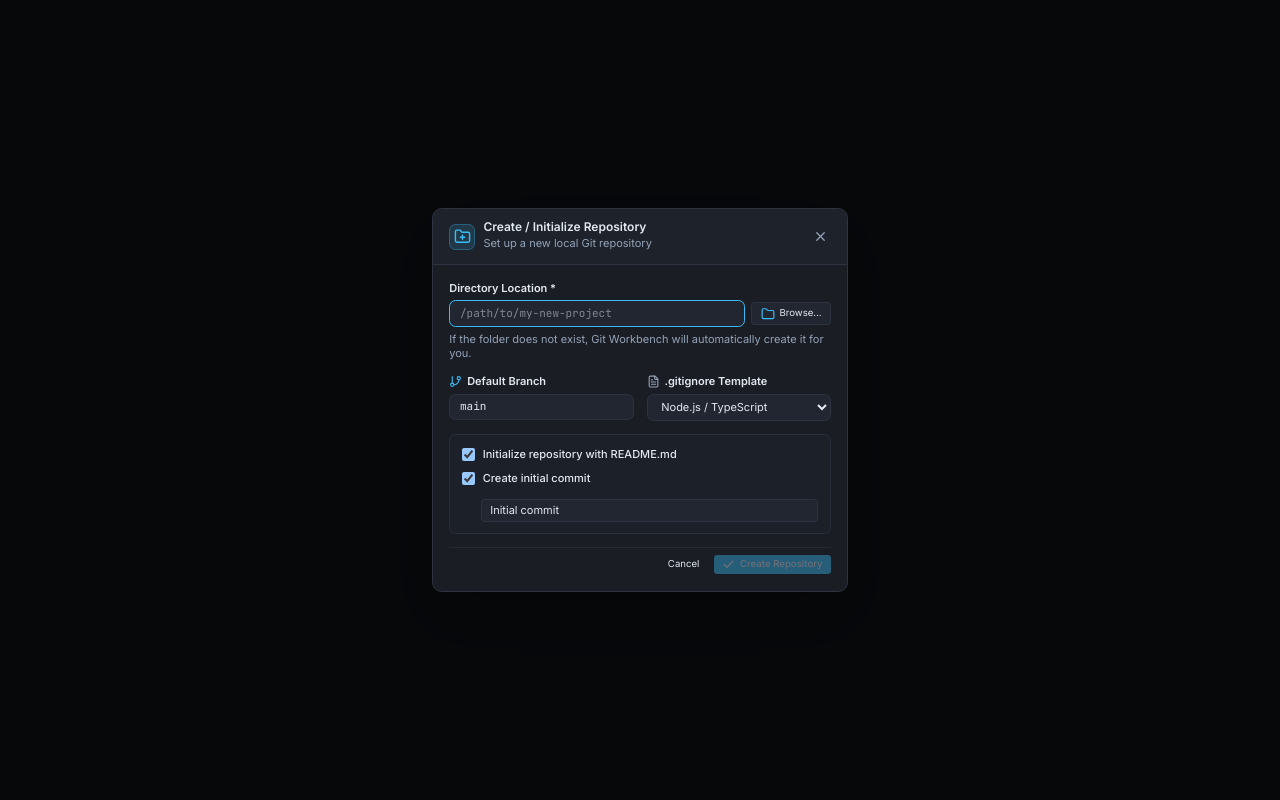
Test: CreateRepoModal › reports repository initialization failure {"__error":"Cannot write directory"}
The width and height of the screenshot is (1280, 800).
Type "/new" into the field with placeholder "/path/to/my-new-project".
click(597, 314); type("/new")  # box [449,300,745,327]
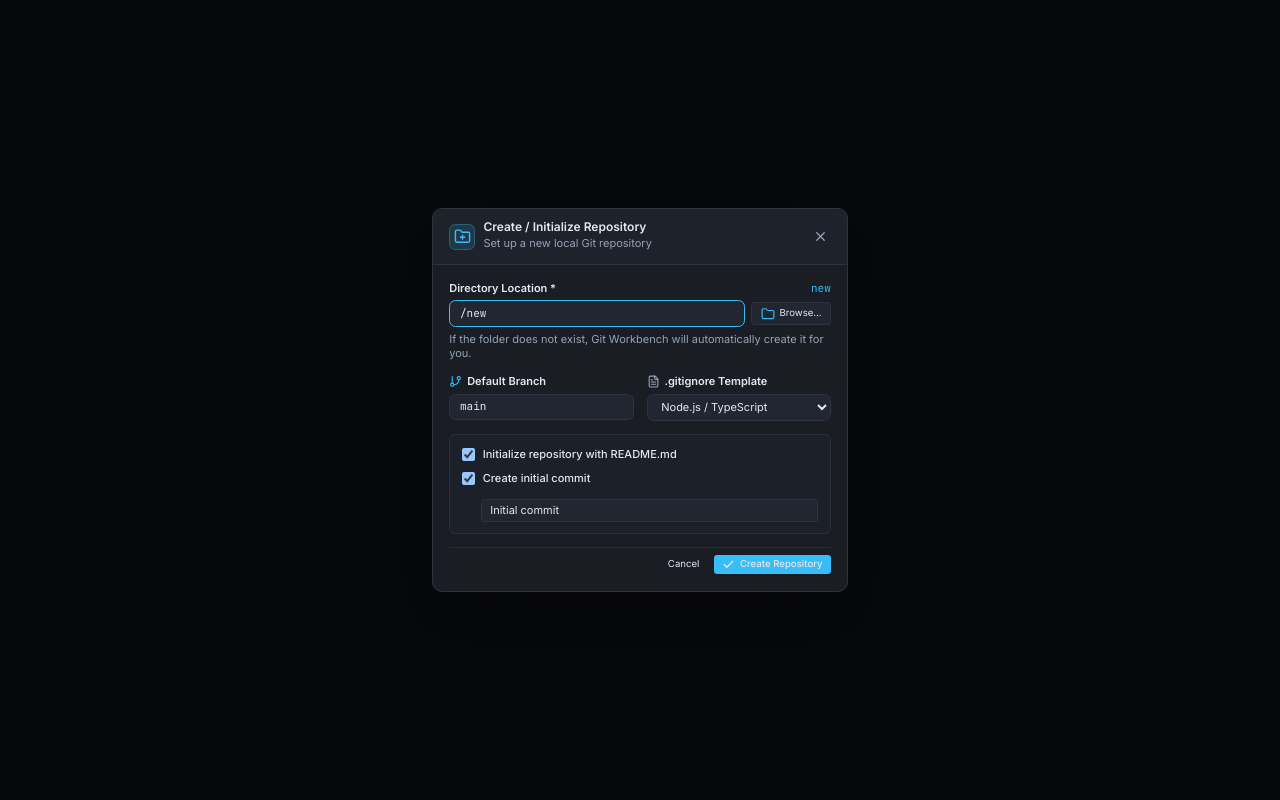
Click the button "Create Repository".
click(772, 565)  # box [714,555,831,574]
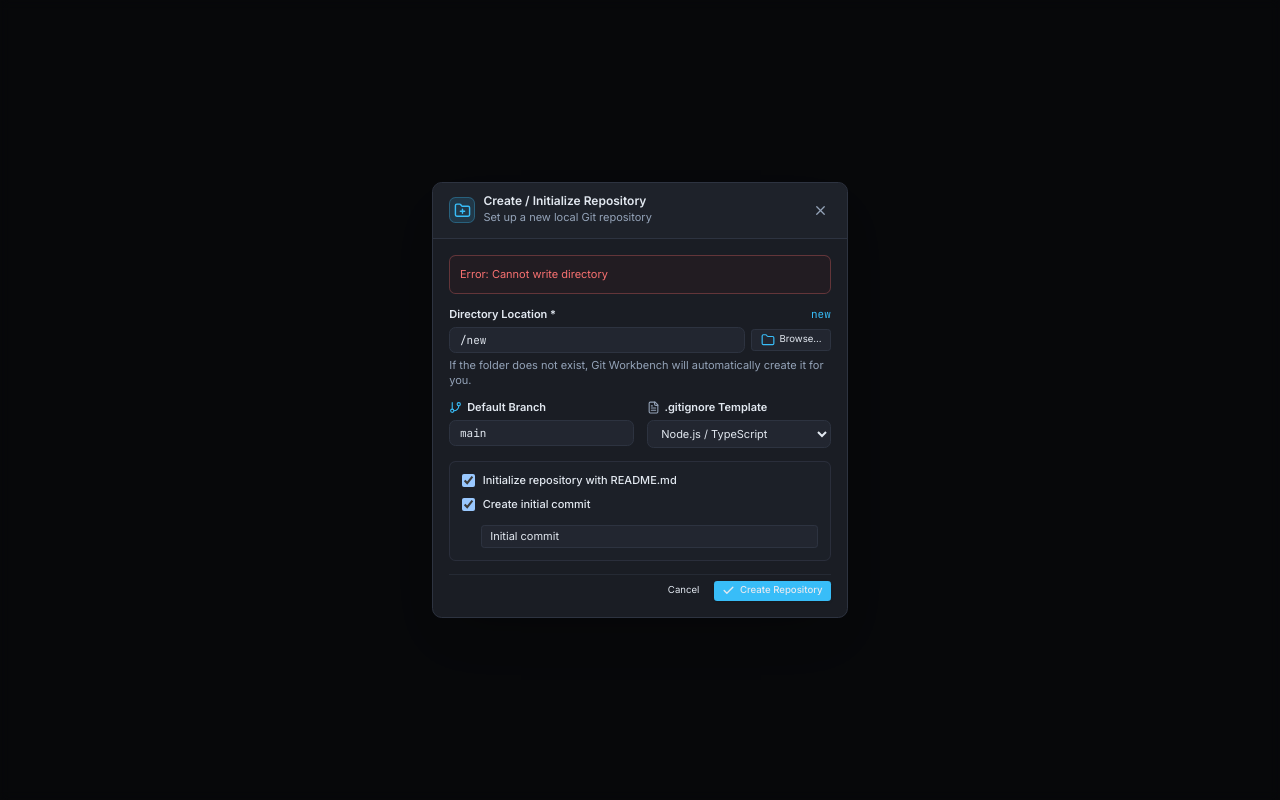
Expected: the button "Create Repository" is enabled, [714,581,831,600]
Expected: the text "Error: Cannot write directory" is shown, [449,255,831,294]
